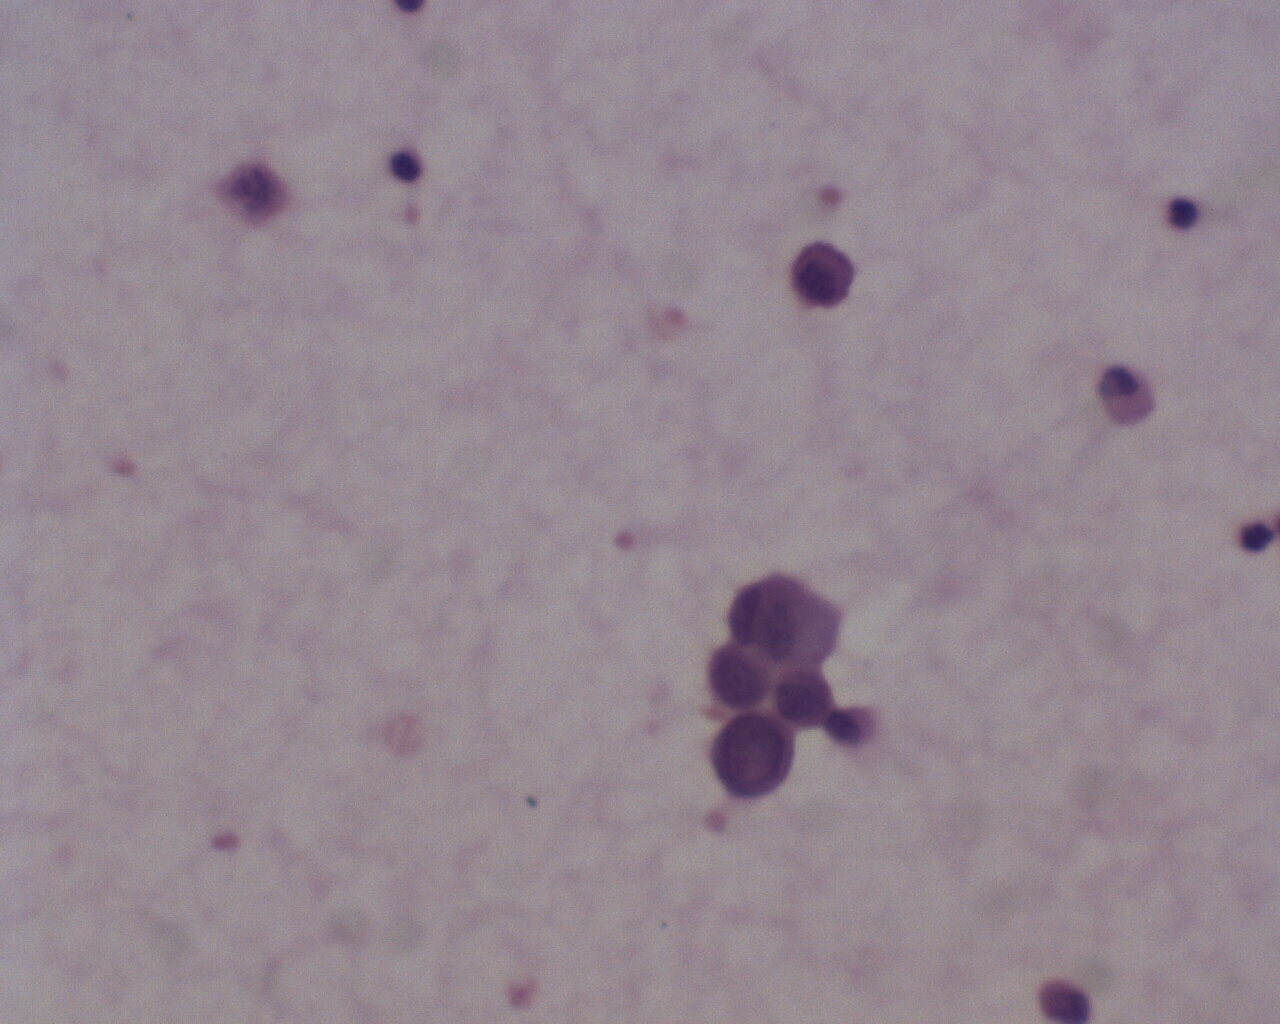ab: (708, 712, 796, 802), (788, 235, 859, 308), (704, 641, 775, 712), (775, 665, 838, 732)
lymph: (387, 148, 428, 188), (1165, 191, 1205, 232)
